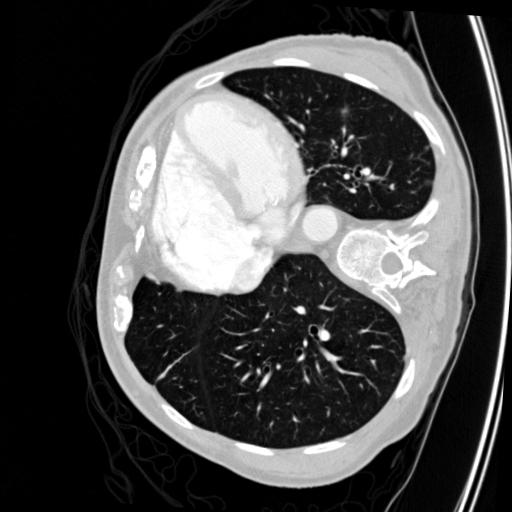nodule: (338, 105, 354, 121)
